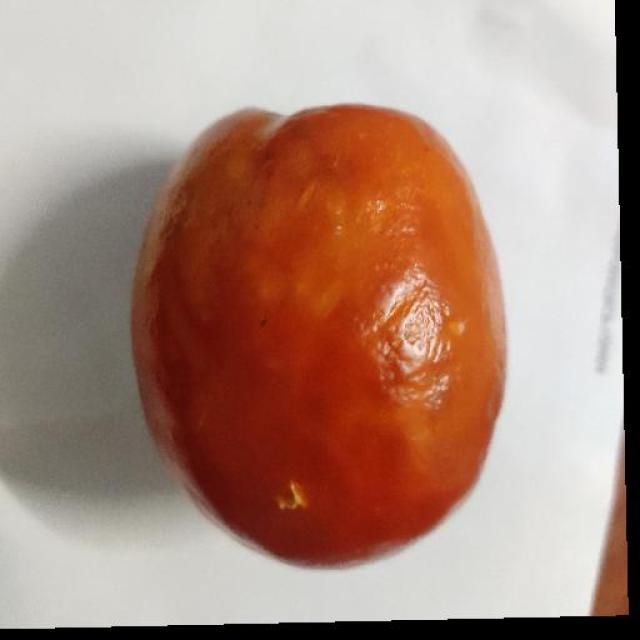Stale_tomato: (162, 94, 482, 566)
